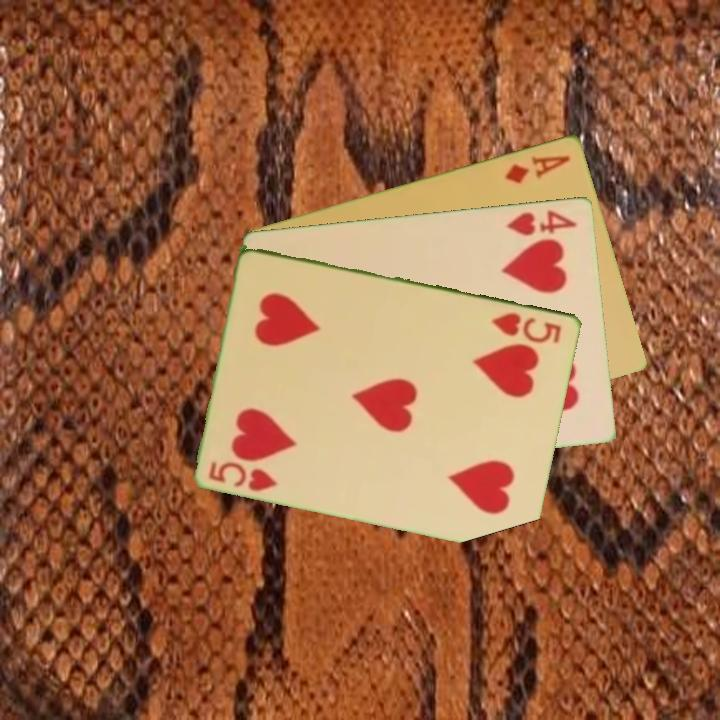4h: (503, 206, 580, 238)
5h: (489, 308, 565, 346), (205, 457, 281, 494)
Ad: (502, 151, 573, 187)
